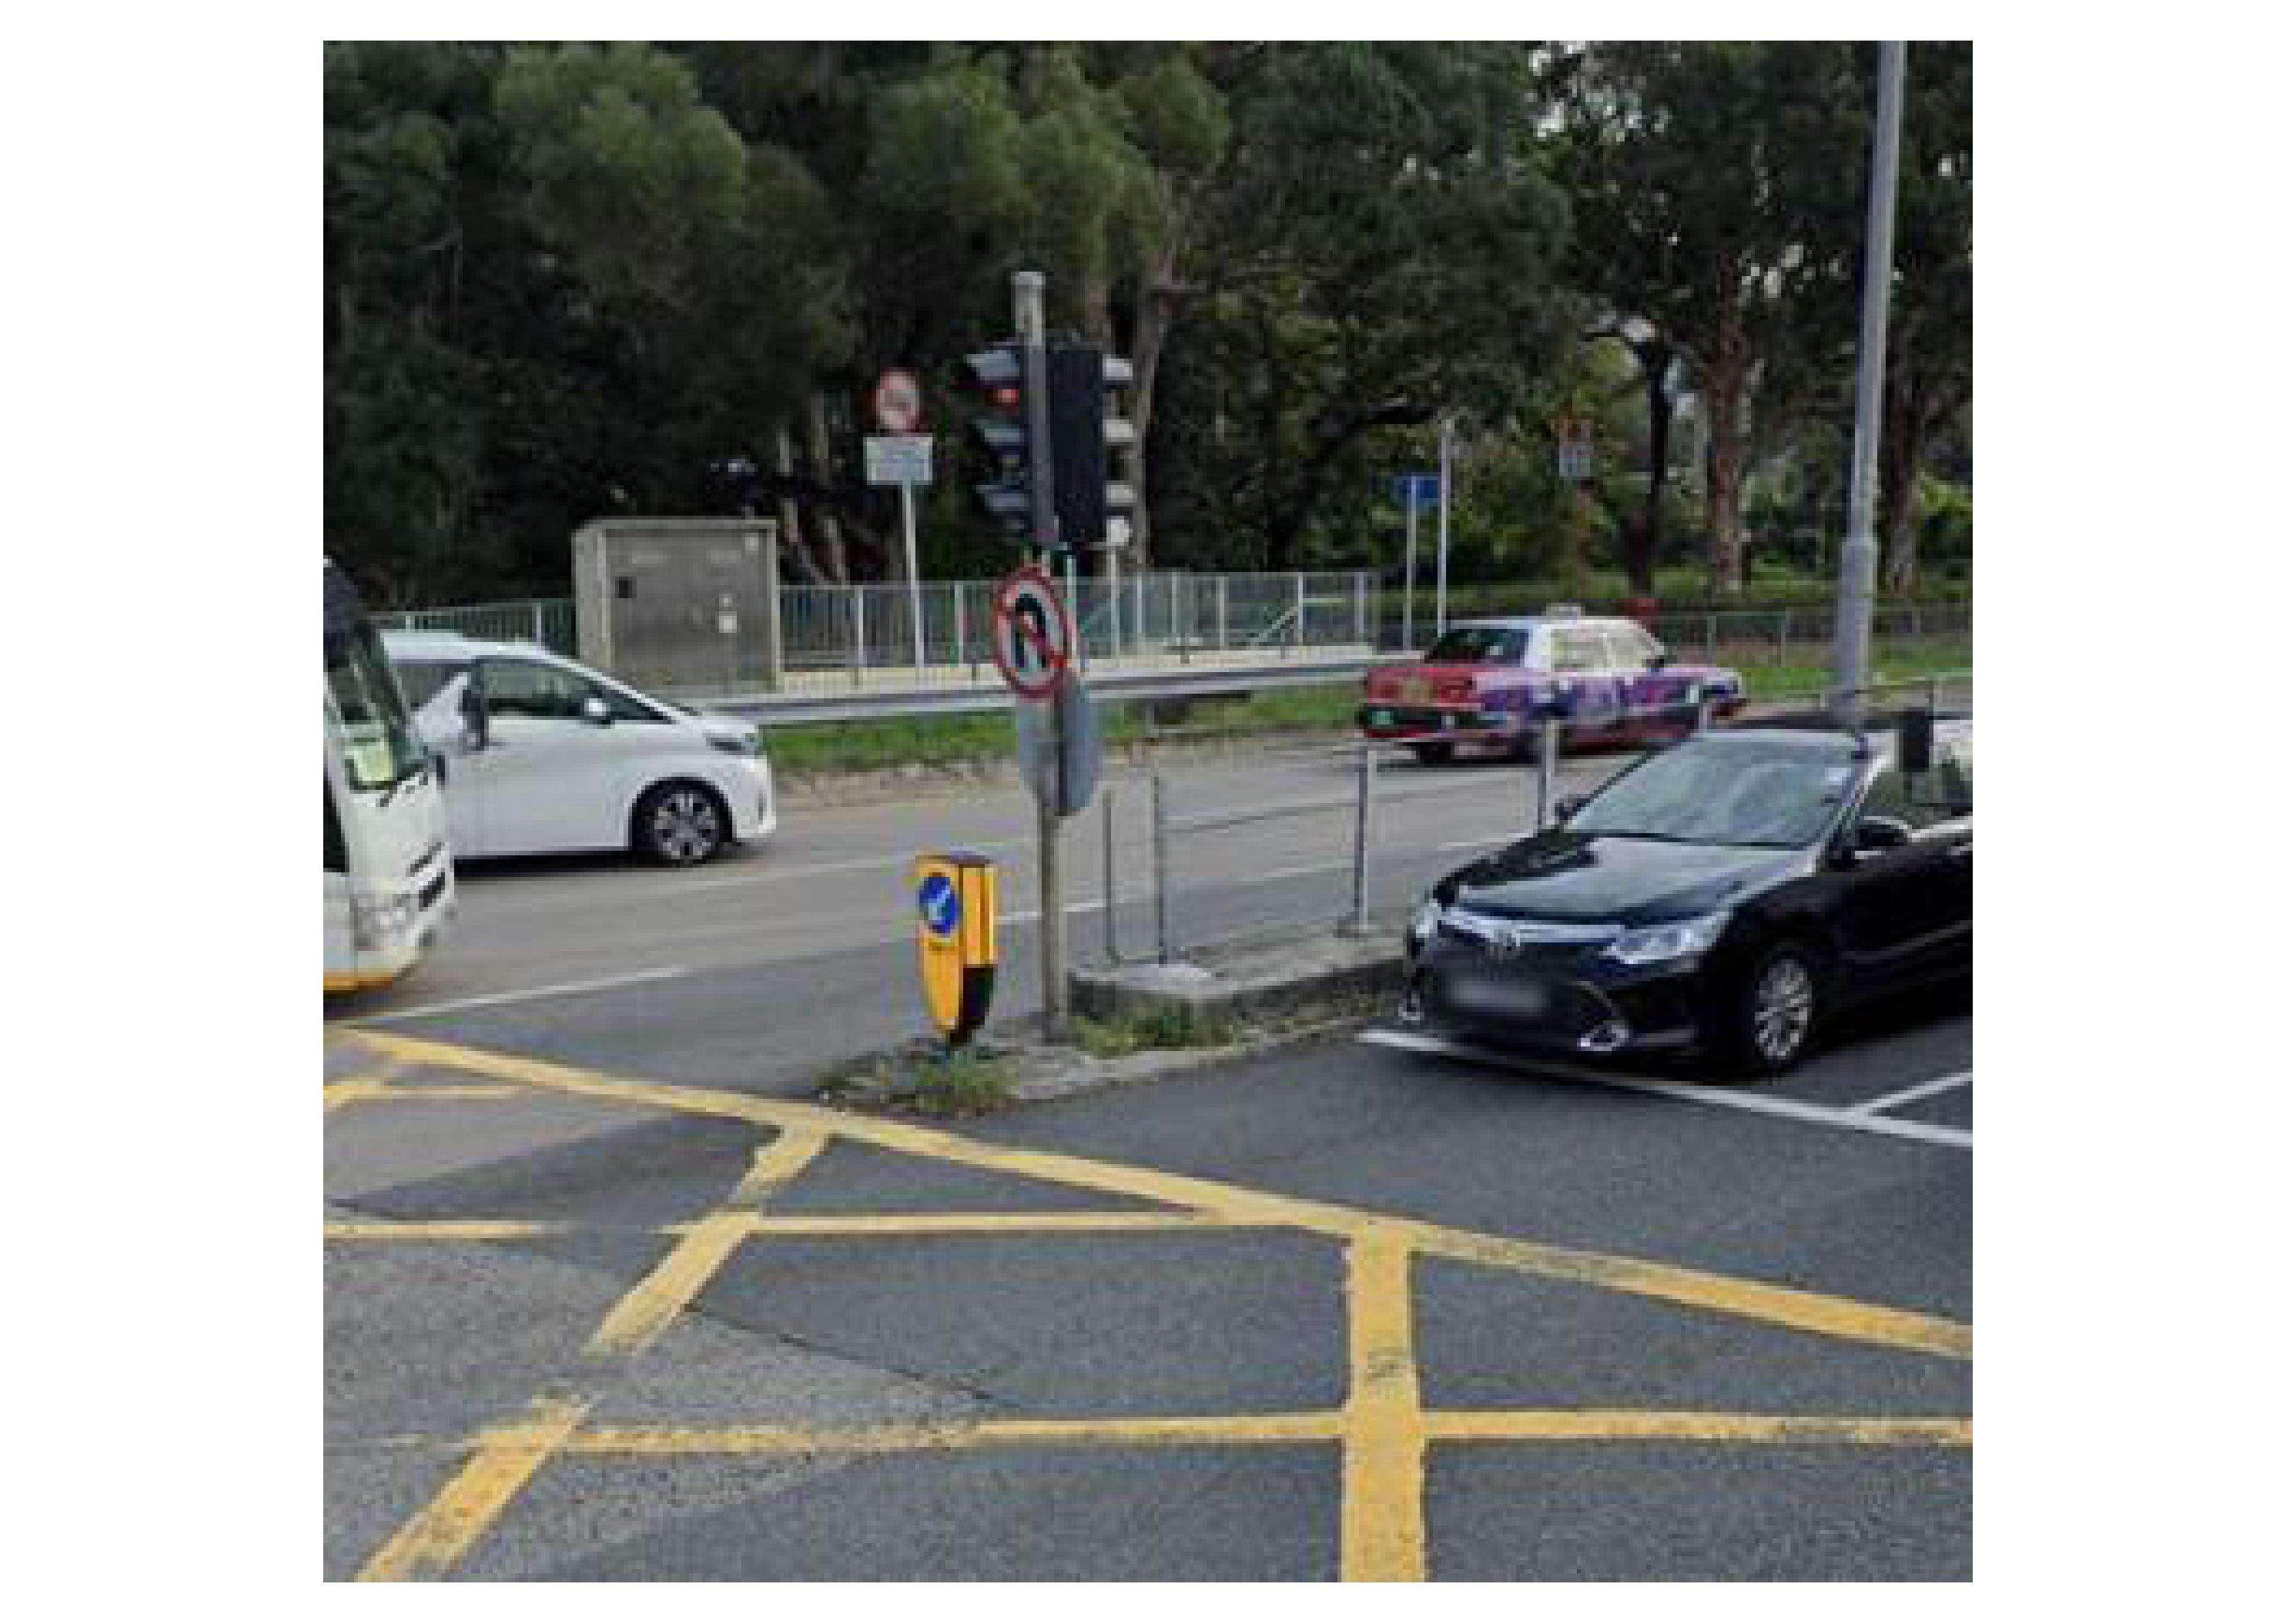No Uturn: (978, 574, 1087, 694)
